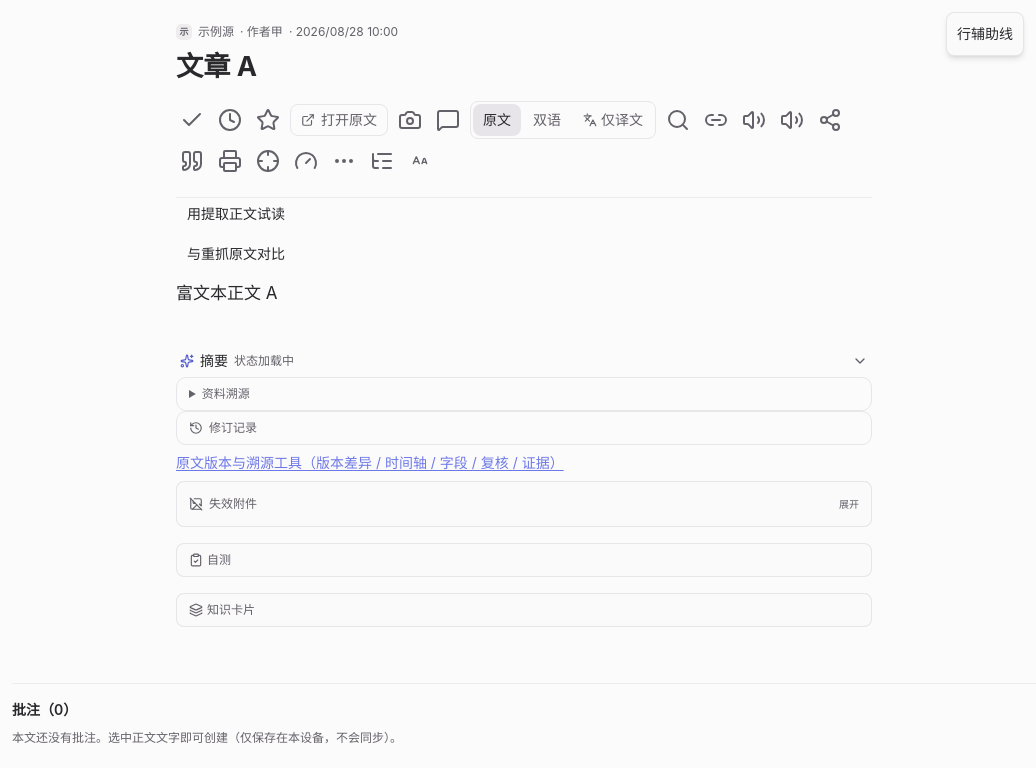
it: F21 — 分享 › 无 share 能力 → 直接「复制链接」行为 + 「链接已复制」反馈
Expected: the heading "文章 A" is shown, x1=176 y1=50 x2=257 y2=83
What coordinates should you click on to do the following:
click the button named "复制链接"
I would click on:
 (830, 120)
Its box is x1=814 y1=104 x2=846 y2=136.
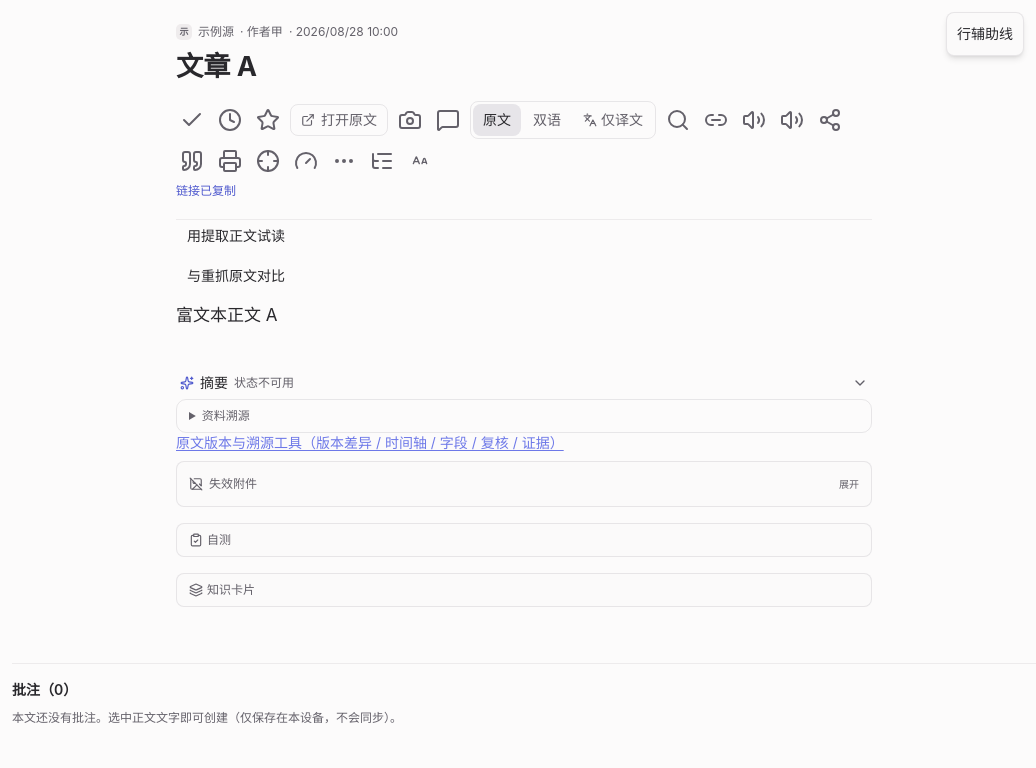
Expected: the text "链接已复制" is shown, x1=176 y1=183 x2=236 y2=198
